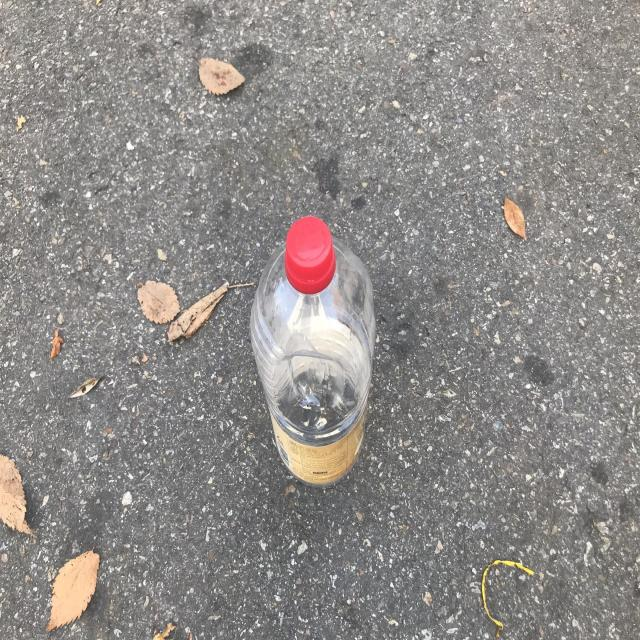plastic: (250, 216, 376, 486)
